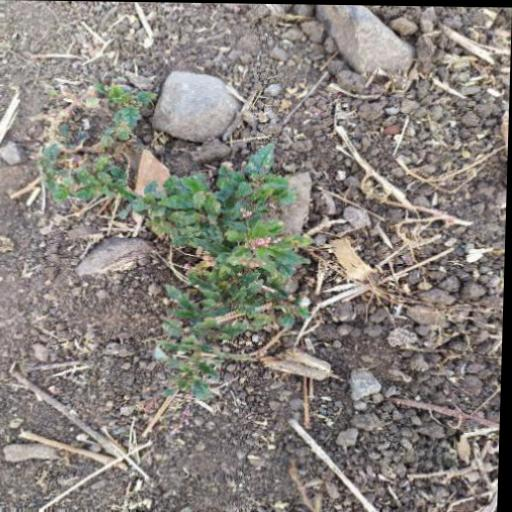weed: (32, 81, 299, 414)
